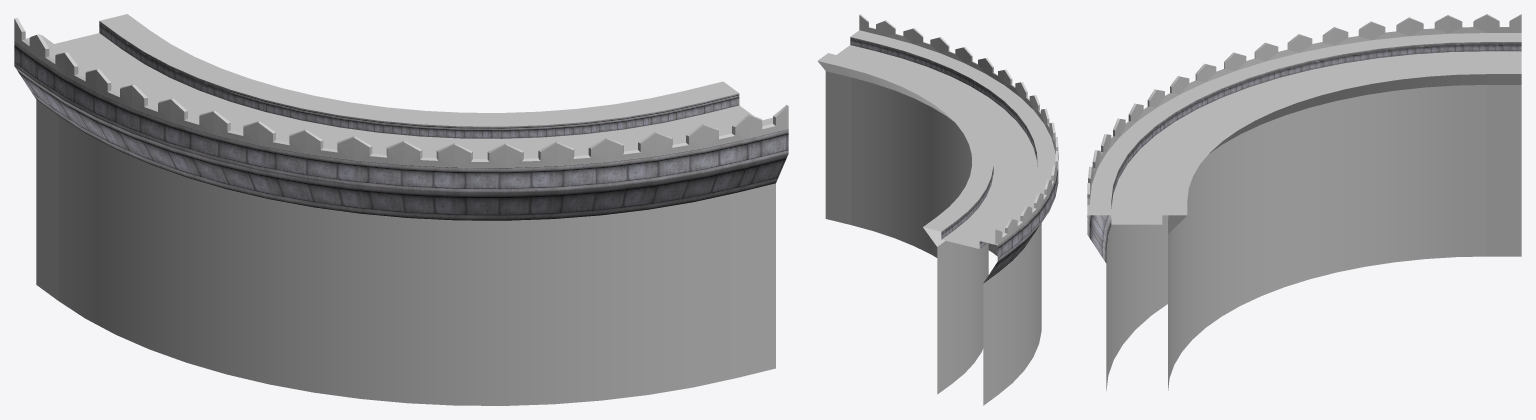
The model's file is CurveWall.FBX.
3 renders of one model, left to right at view 1: azimuth 30°, elevation 25°; view 2: azimuth 150°, elevation 25°; view 3: azimuth 270°, elevation 25°, orthographic. The views are drawn at different scales.
Parts seen in each view (by area): view 1: curveWall; view 2: curveWall; view 3: curveWall.
Part boxes in pixels (box(x1,y1,x2,y2)): curveWall: box(14, 14, 788, 405); curveWall: box(818, 14, 1058, 405); curveWall: box(1087, 14, 1521, 390).
Bounding box in the file's own units: 681 × 360 × 681.
